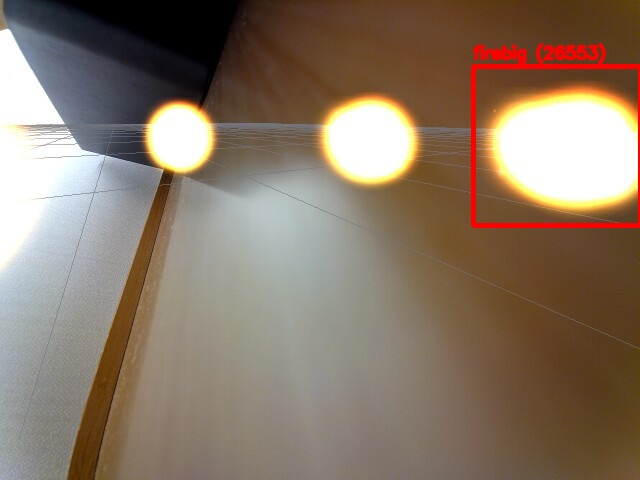firebig: (473, 66, 640, 225)
